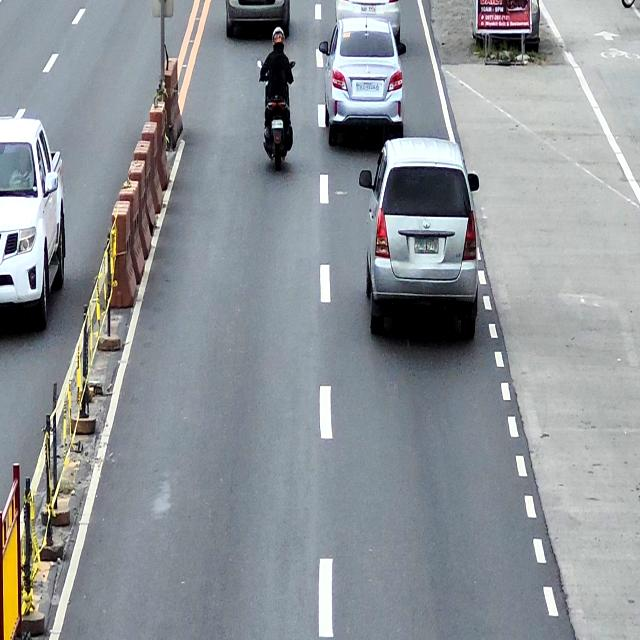Car: (359, 136, 479, 344), (0, 119, 66, 331), (319, 16, 406, 148), (335, 0, 401, 44), (226, 0, 291, 41)
License-Plate: (414, 236, 439, 253), (361, 4, 376, 15), (270, 118, 284, 129), (362, 83, 376, 92)
Motorcycle: (257, 57, 296, 171)
